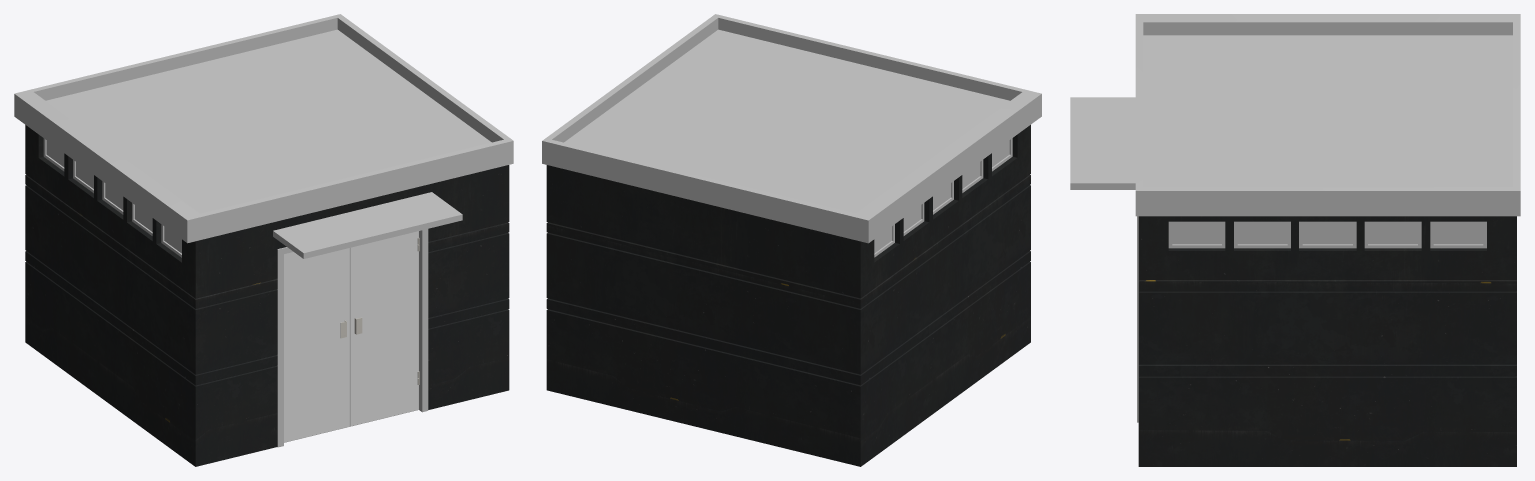
File: KB3D_CBP_MPH_A.fbx
3 renders of one model, left to right at view 1: azimuth 30°, elevation 25°; view 2: azimuth 150°, elevation 25°; view 3: azimuth 270°, elevation 25°, orthographic. The views are drawn at different scales.
Parts seen in each view (by area): view 1: KB3D_CBP_MPH_A_Main; view 2: KB3D_CBP_MPH_A_Main; view 3: KB3D_CBP_MPH_A_Main.
Part boxes in pixels (x1,y1,x2,y2): KB3D_CBP_MPH_A_Main: (14, 14, 513, 466); KB3D_CBP_MPH_A_Main: (542, 14, 1041, 466); KB3D_CBP_MPH_A_Main: (1070, 14, 1520, 466).
Bounding box in the file's own units: 374 × 274 × 402.
